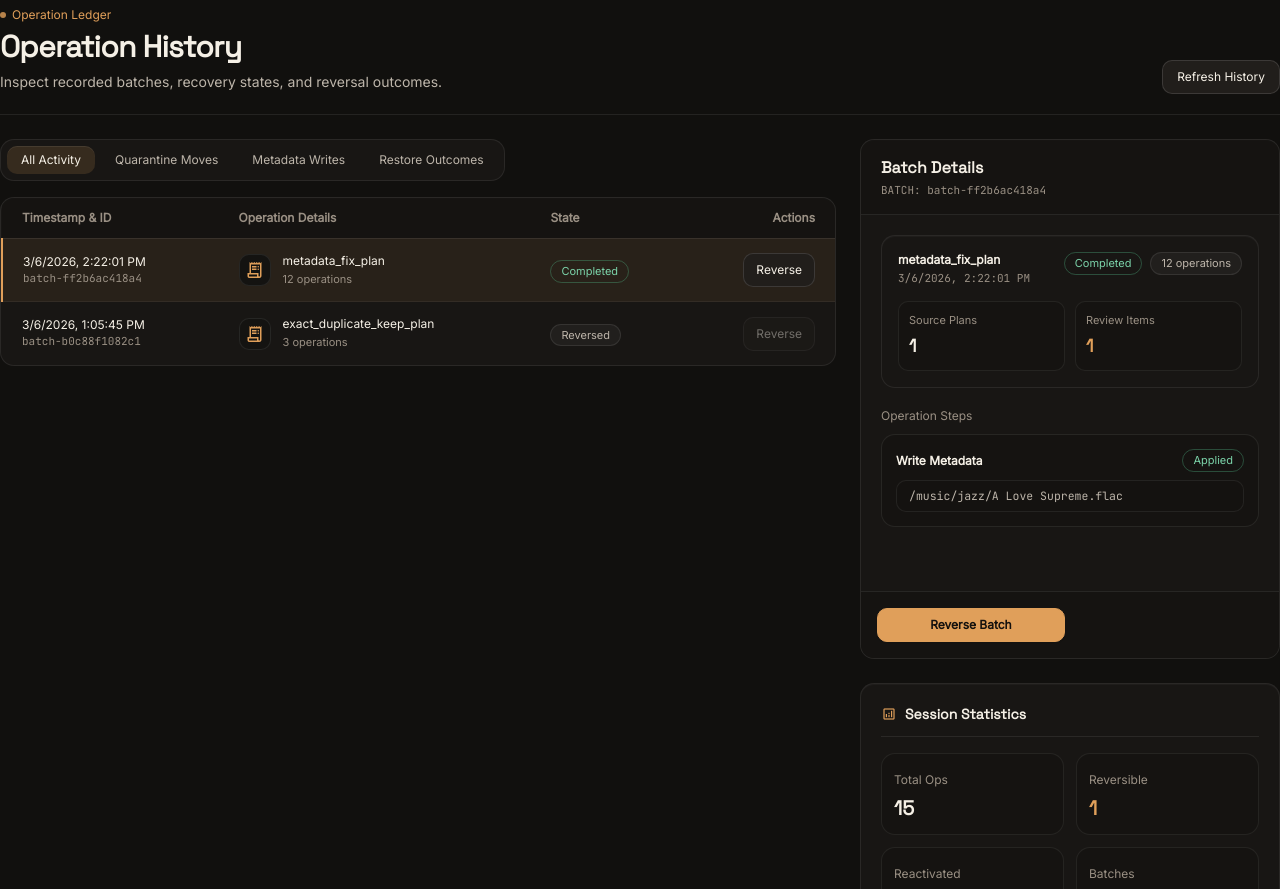
it: History Page › runs a normal reversal and refreshes the batch outcome
The width and height of the screenshot is (1280, 889).
Click the button "Reverse Batch" at point(971, 625), box [877, 608, 1065, 642]
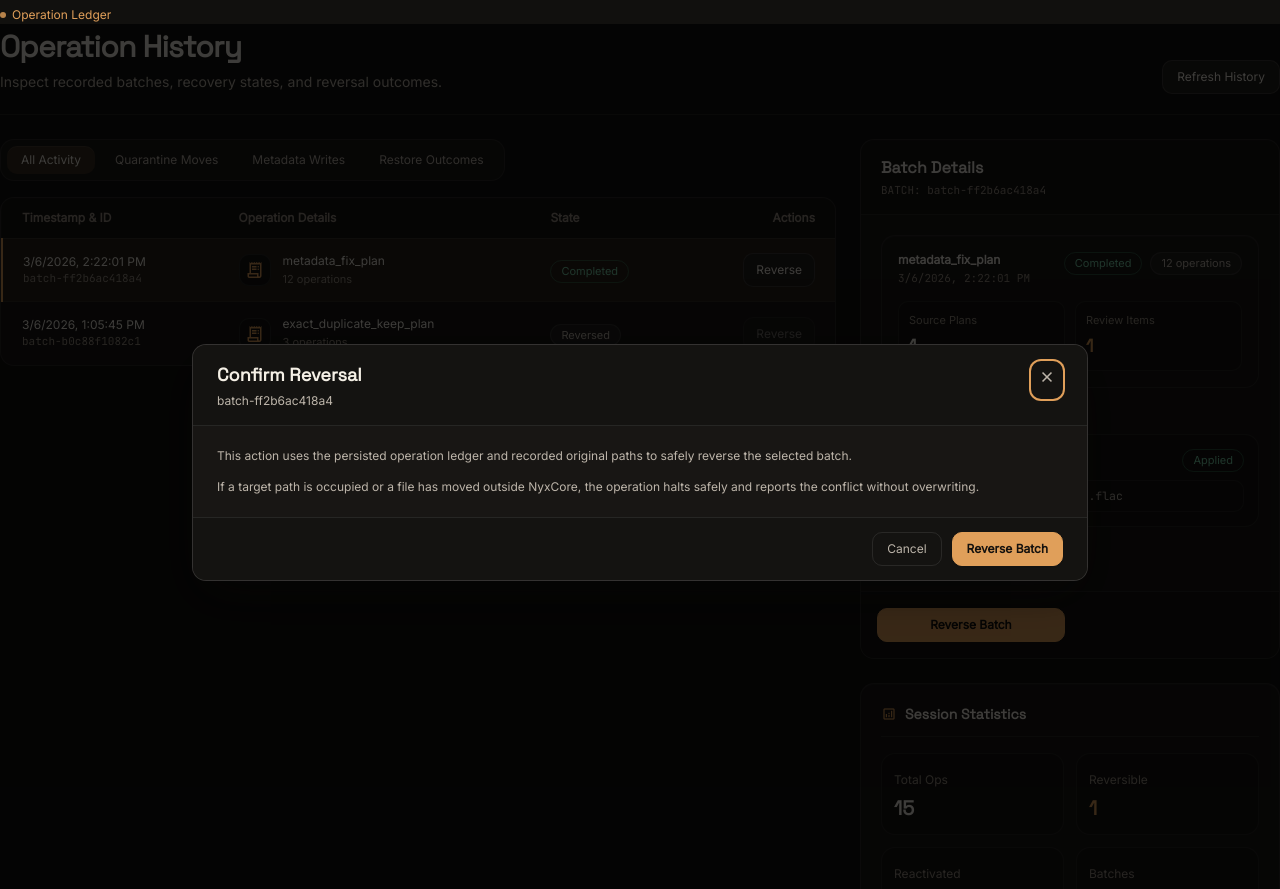
Click the button "Reverse Batch" at point(1007, 548), box [952, 532, 1063, 566]
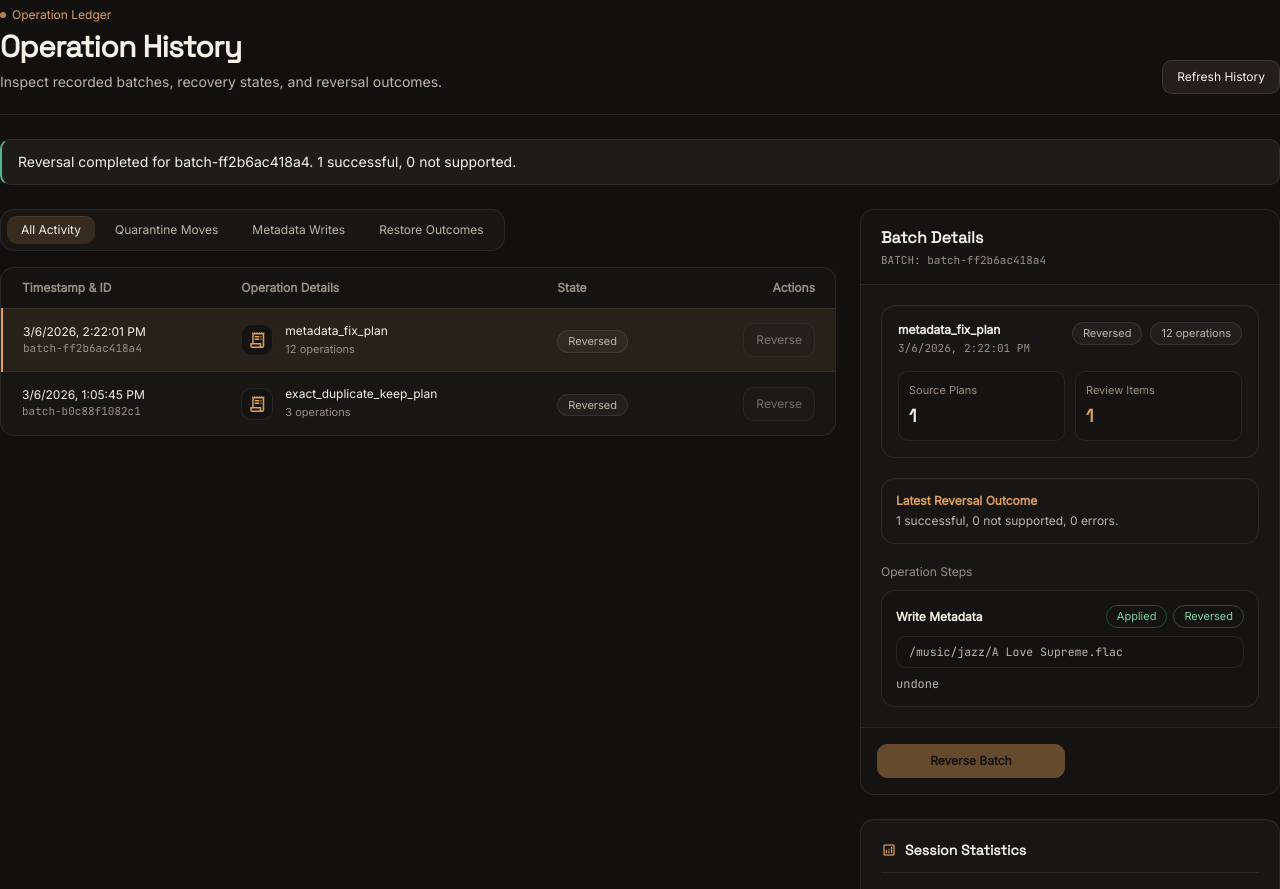
Now the text "Latest Reversal Outcome" is shown, box [896, 493, 1037, 508]
Now the 2nd text "Reversed" is shown, box [557, 330, 628, 353]
Now the 1st button "Reverse" is disabled, box [743, 323, 815, 357]
